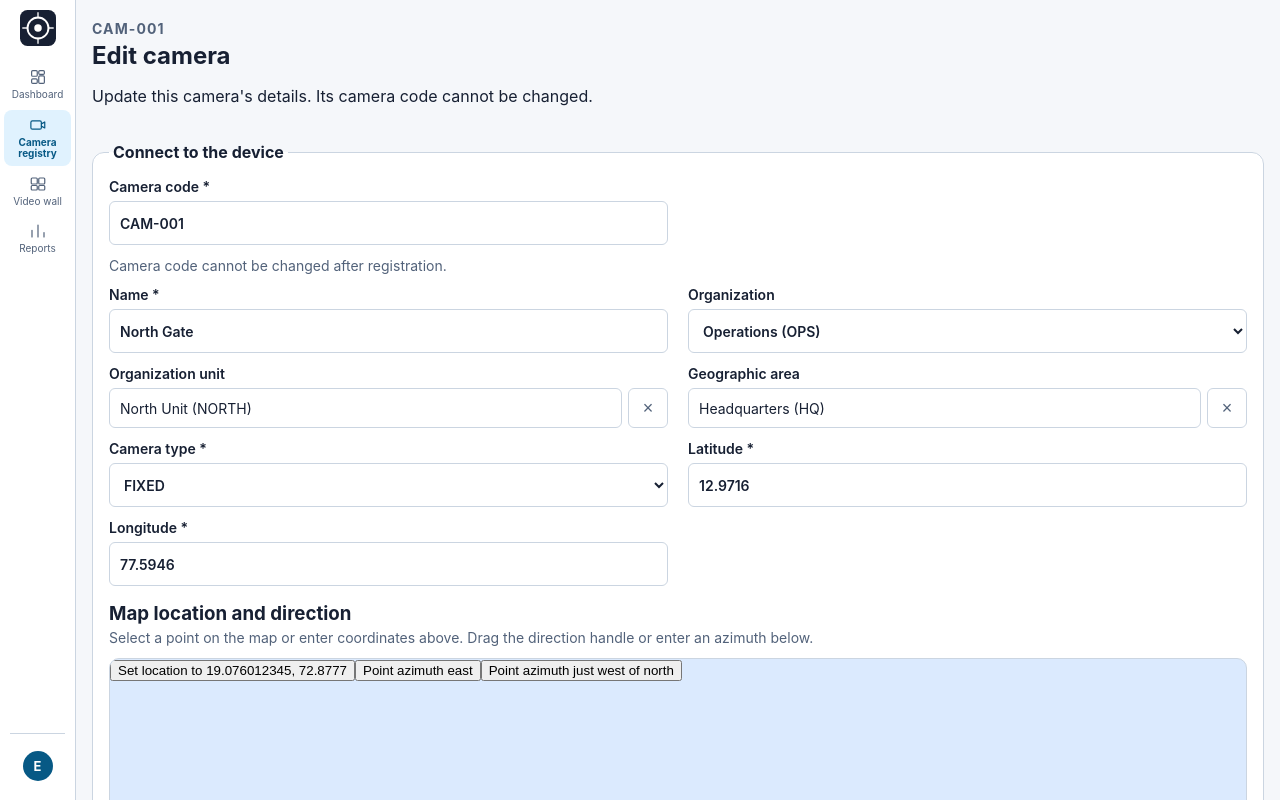
Test: loads the existing camera into the form, pre-scoped to its organization
This screenshot has width=1280, height=800.
Check: the field showing "North Gate" is shown, box [109,309,668,353]
Click the dropdown named "organization unit" at (186, 408), box [109,388,622,428]
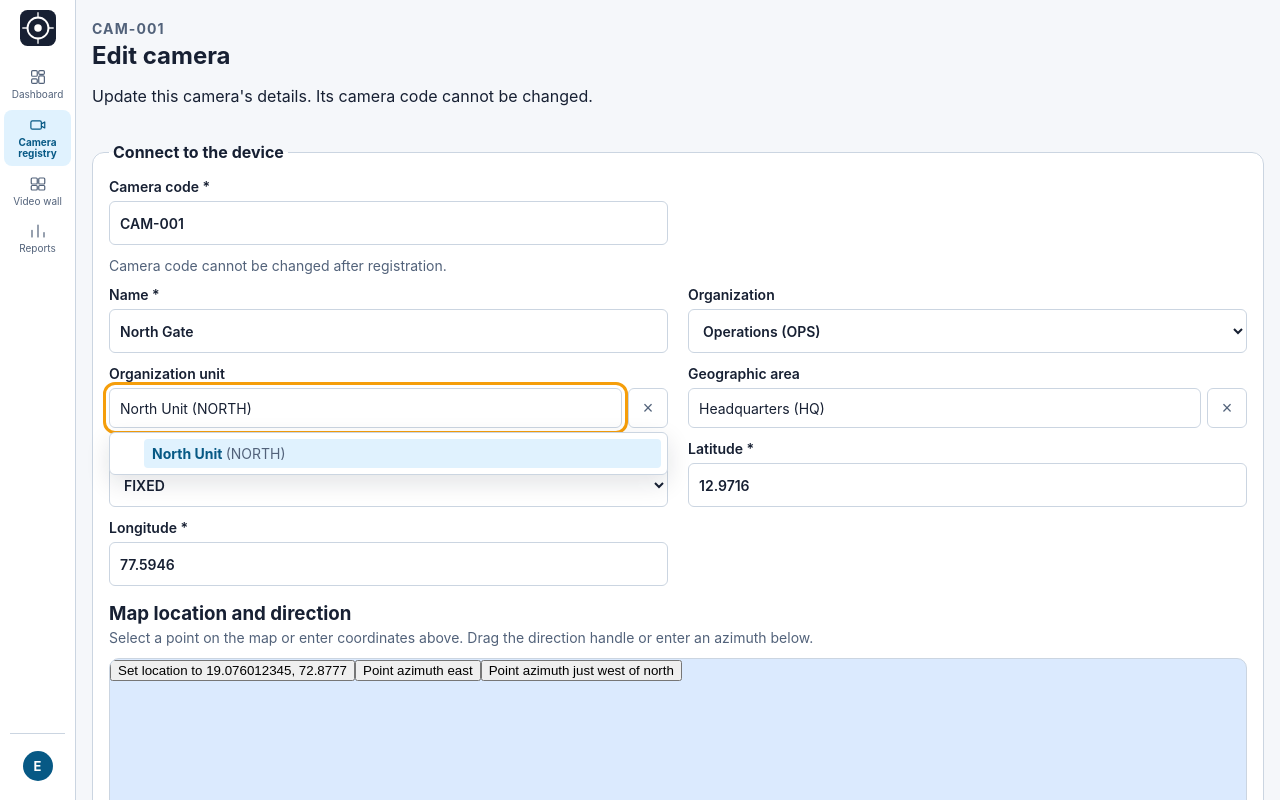
Check: the button "North Unit (NORTH)" is shown, box [144,439,661,468]
